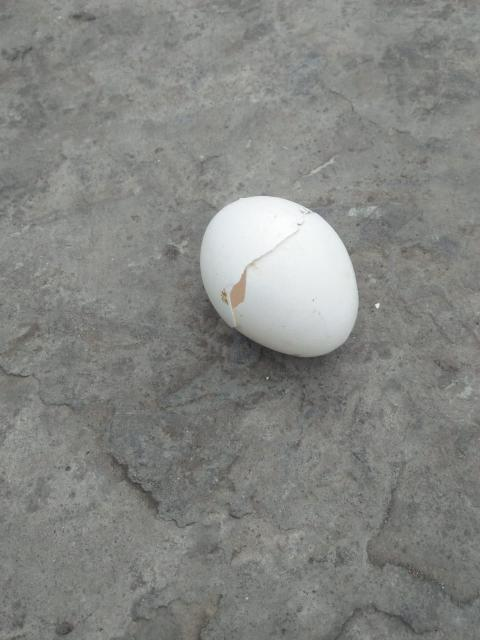Roto: (198, 194, 360, 358)
